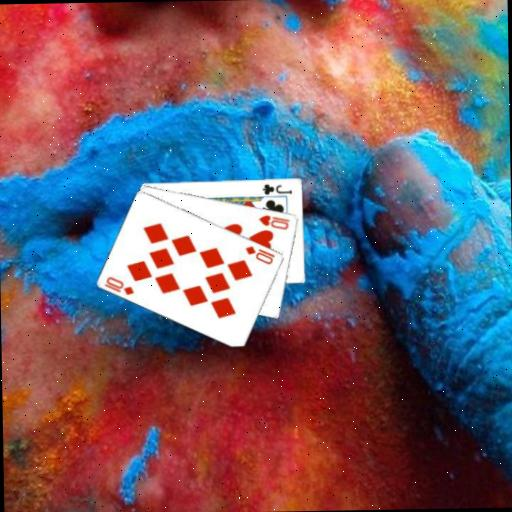10D: (243, 242, 277, 266), (102, 273, 136, 297)
10H: (256, 211, 291, 231)
JC: (260, 180, 294, 196)
